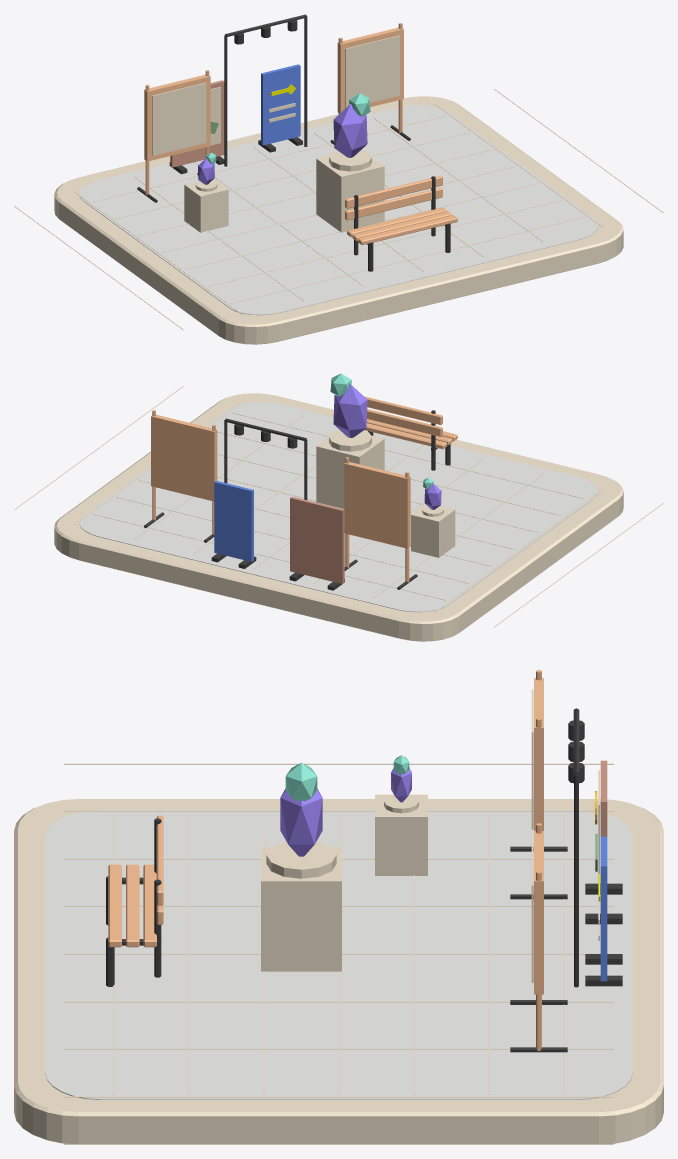
The model's file is room.fbx.
The picture shows the model from 3 angles, top to bottom: view 1: azimuth 30°, elevation 25°; view 2: azimuth 150°, elevation 25°; view 3: azimuth 270°, elevation 25°; orthographic projection. The views are drawn at different scales.
Visible parts, largest first — view 1: COM-02 Floor Surface, COM-01 Rounded Base Direct, Display plinth, Art surface, Art surface.001, Panel.001, Display plinth.001, Frame, Frame.001, Sculpture, Back slat.001, Back slat (+8 smaller); view 2: COM-02 Floor Surface, COM-01 Rounded Base Direct, Frame, Frame.001, Panel, Panel.001, Display plinth, Display plinth.001, Sculpture, Back slat.001, Back slat, Plinth (+2 smaller); view 3: COM-02 Floor Surface, COM-01 Rounded Base Direct, Display plinth, Display plinth.001, Sculpture, Plinth, Frame.001, Frame, Seat slat, Seat slat.001, Panel.001, Grout X.007 (+8 smaller).
Part boxes in pixels (x1=…): COM-02 Floor Surface: x1=79, y1=105, x2=598, y2=315; COM-01 Rounded Base Direct: x1=54, y1=96, x2=623, y2=344; Display plinth: x1=316, y1=155, x2=384, y2=232; Art surface: x1=152, y1=82, x2=206, y2=155; Art surface.001: x1=345, y1=35, x2=399, y2=108; Panel.001: x1=261, y1=64, x2=300, y2=145; Display plinth.001: x1=184, y1=179, x2=228, y2=232; Frame: x1=144, y1=74, x2=210, y2=161; Frame.001: x1=337, y1=27, x2=403, y2=113; Sculpture: x1=333, y1=104, x2=367, y2=157; Back slat.001: x1=345, y1=175, x2=442, y2=208; Back slat: x1=345, y1=187, x2=442, y2=220; COM-02 Floor Surface: x1=79, y1=402, x2=598, y2=612; COM-01 Rounded Base Direct: x1=54, y1=393, x2=623, y2=641; Frame: x1=344, y1=462, x2=410, y2=548; Frame.001: x1=151, y1=414, x2=217, y2=501; Panel: x1=290, y1=496, x2=344, y2=583; Panel.001: x1=214, y1=481, x2=253, y2=561; Display plinth: x1=316, y1=435, x2=384, y2=508; Display plinth.001: x1=411, y1=504, x2=455, y2=557; Sculpture: x1=333, y1=384, x2=367, y2=437; Back slat.001: x1=364, y1=396, x2=442, y2=424; Back slat: x1=367, y1=409, x2=442, y2=436; Plinth: x1=329, y1=429, x2=371, y2=451; COM-02 Floor Surface: x1=45, y1=810, x2=632, y2=1099; COM-01 Rounded Base Direct: x1=14, y1=799, x2=663, y2=1143; Display plinth: x1=261, y1=847, x2=341, y2=971; Display plinth.001: x1=375, y1=794, x2=427, y2=875; Sculpture: x1=280, y1=789, x2=322, y2=856; Plinth: x1=266, y1=842, x2=336, y2=878; Frame.001: x1=534, y1=831, x2=543, y2=994; Frame: x1=534, y1=678, x2=543, y2=830; Seat slat: x1=108, y1=864, x2=121, y2=947; Seat slat.001: x1=126, y1=864, x2=139, y2=947; Panel.001: x1=600, y1=836, x2=607, y2=981; Grout X.007: x1=64, y1=1096, x2=613, y2=1097.
Size of the model in its own units: 721 by 219 by 520.
